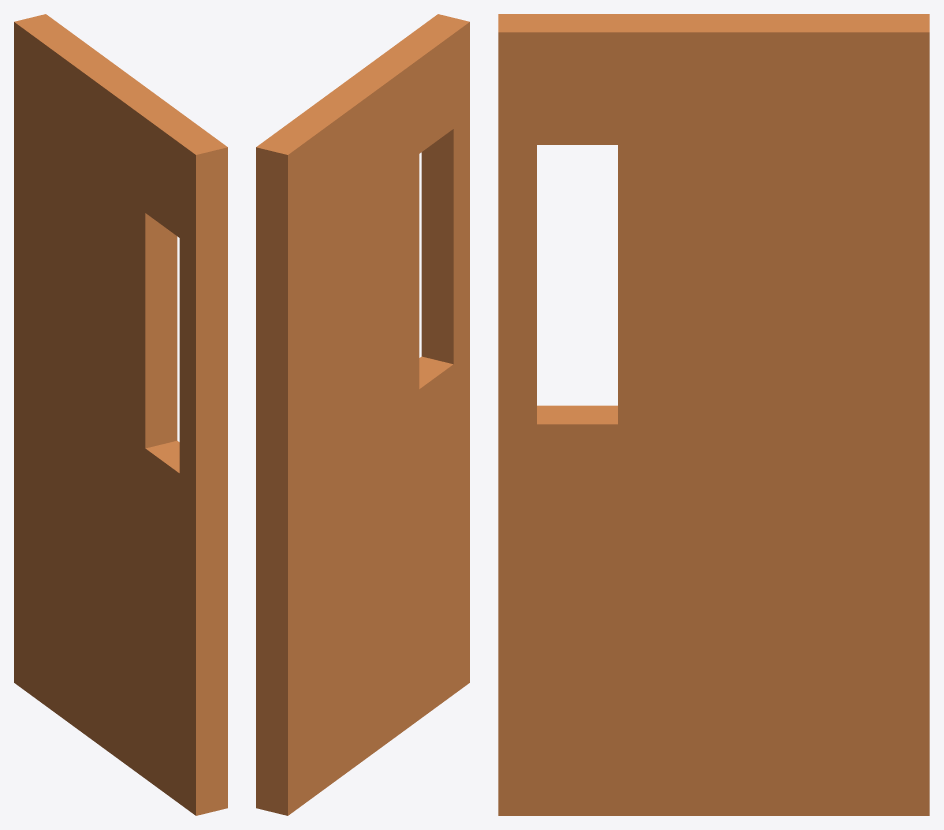
File: kapı (2).fbx
3 views of the same model, side by side, from view 1: azimuth 30°, elevation 25°; view 2: azimuth 150°, elevation 25°; view 3: azimuth 270°, elevation 25° (orthographic). The views are drawn at different scales.
Parts seen in each view (by area): view 1: kapı; view 2: kapı; view 3: kapı.
Part boxes in pixels (<box>): kapı: <box>14,14,227,815</box>; kapı: <box>256,14,469,815</box>; kapı: <box>498,14,929,815</box>.
Size of the model in its own units: 25.85 by 511 by 255.
